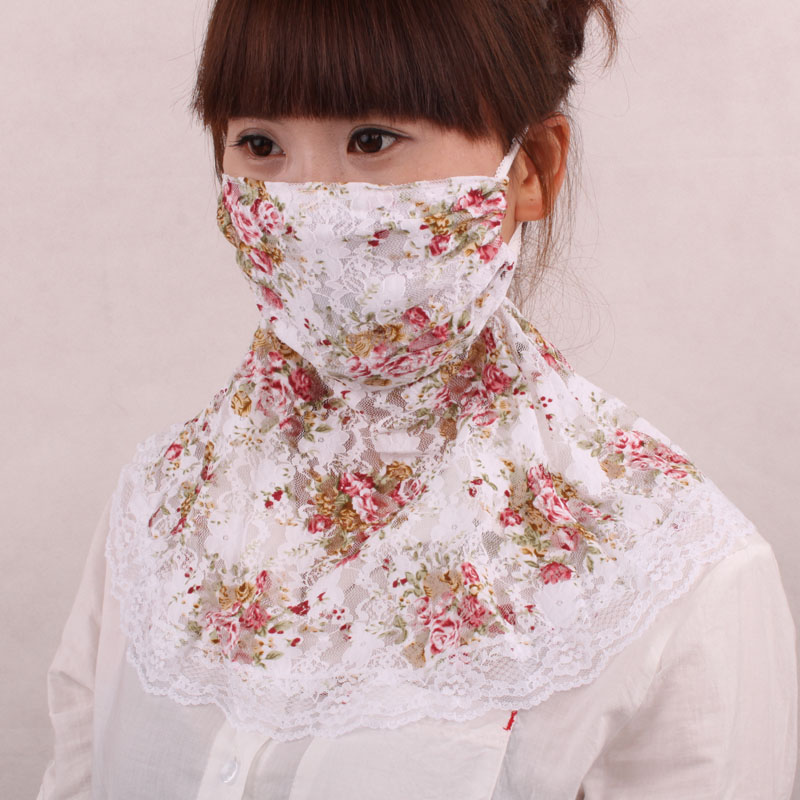face_mask: (226, 6, 493, 348)
